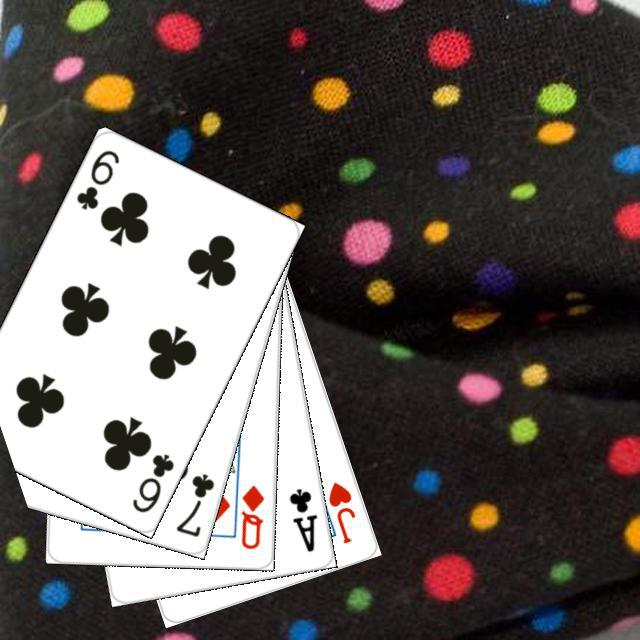6c: (71, 144, 121, 212), (127, 448, 176, 515)
7c: (171, 468, 216, 539)
Ac: (284, 483, 319, 554)
Jh: (323, 476, 357, 546)
Qd: (236, 480, 265, 551)
